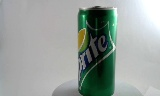sprite: (71, 5, 111, 95)
